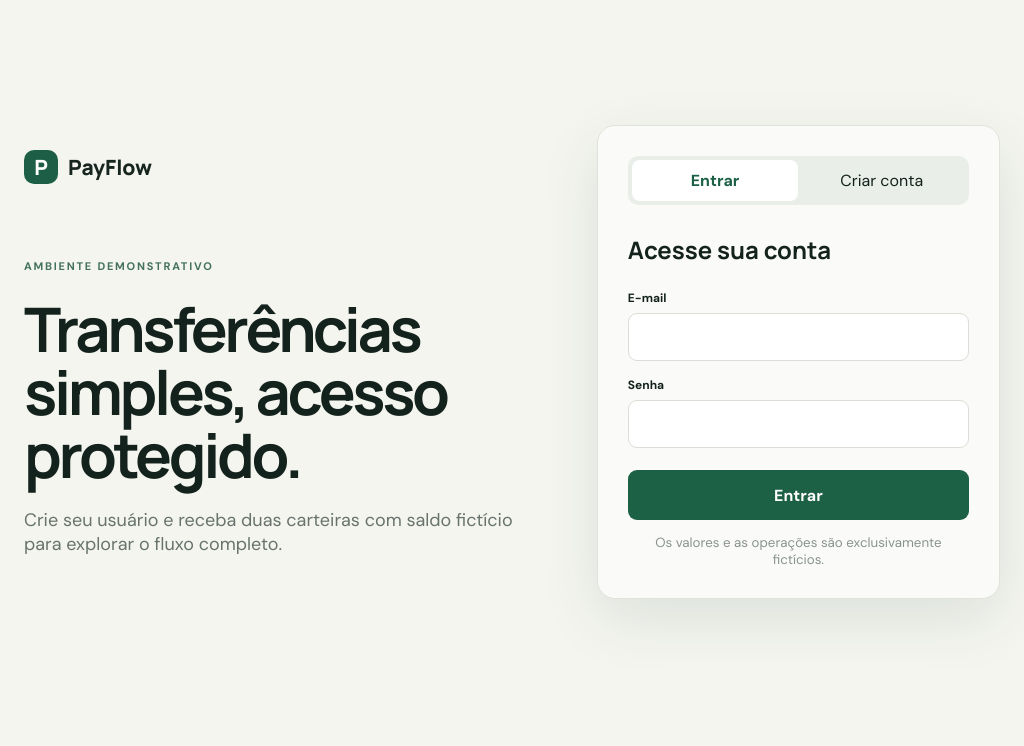
it: PayFlow dashboard › creates a transfer and refreshes the history
Type "user@example.com" into the field labelled "E-mail" at coordinates (798, 337), box [628,313,969,361]
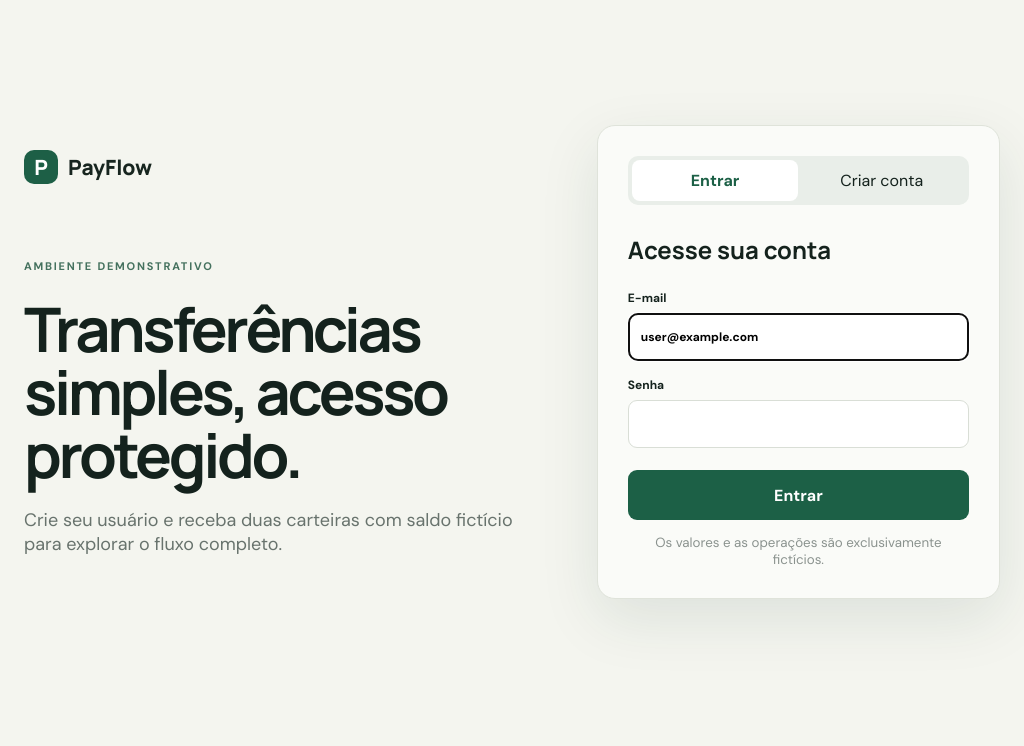
Type "safe-password" into the password field labelled "Senha" at coordinates (798, 424), box [628,400,969,448]
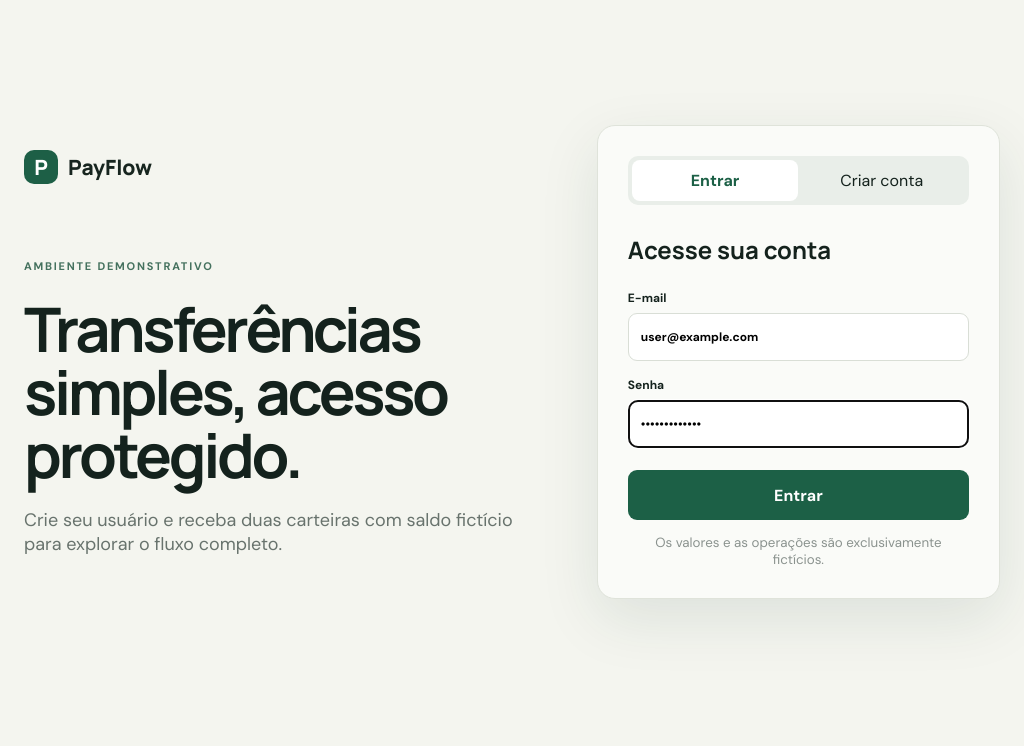
Click the button "Entrar" at coordinates (798, 495), box [628,470,969,520]
(page scrolled)
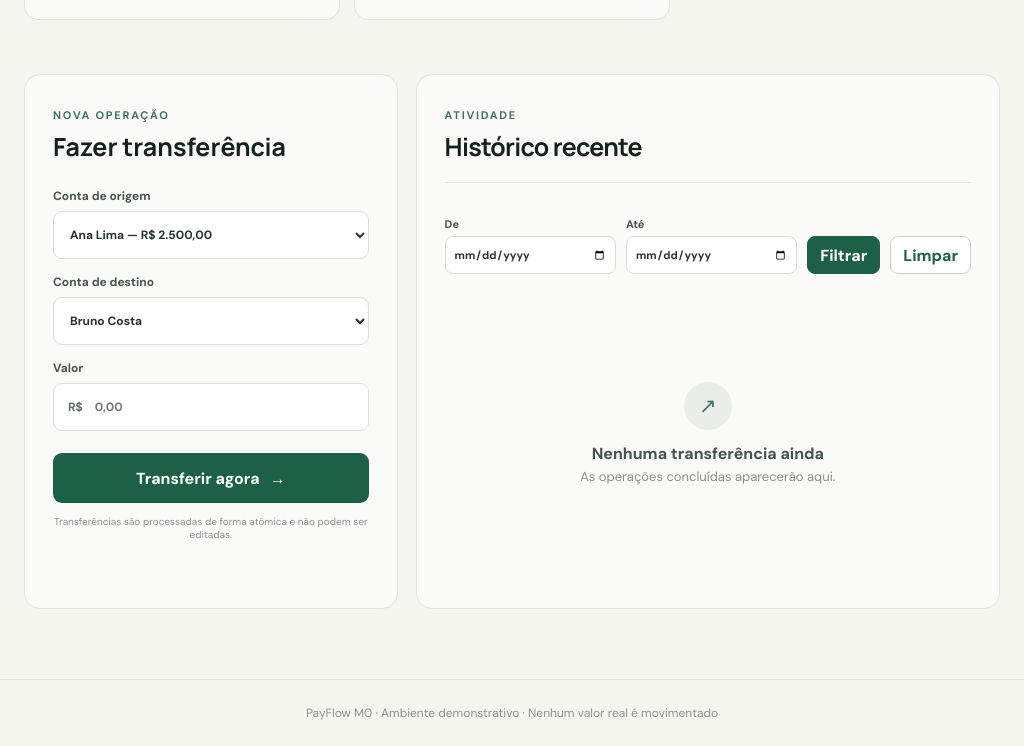
Type "50" into the number field labelled "Valor" at coordinates (225, 408), box [83,384,368,430]
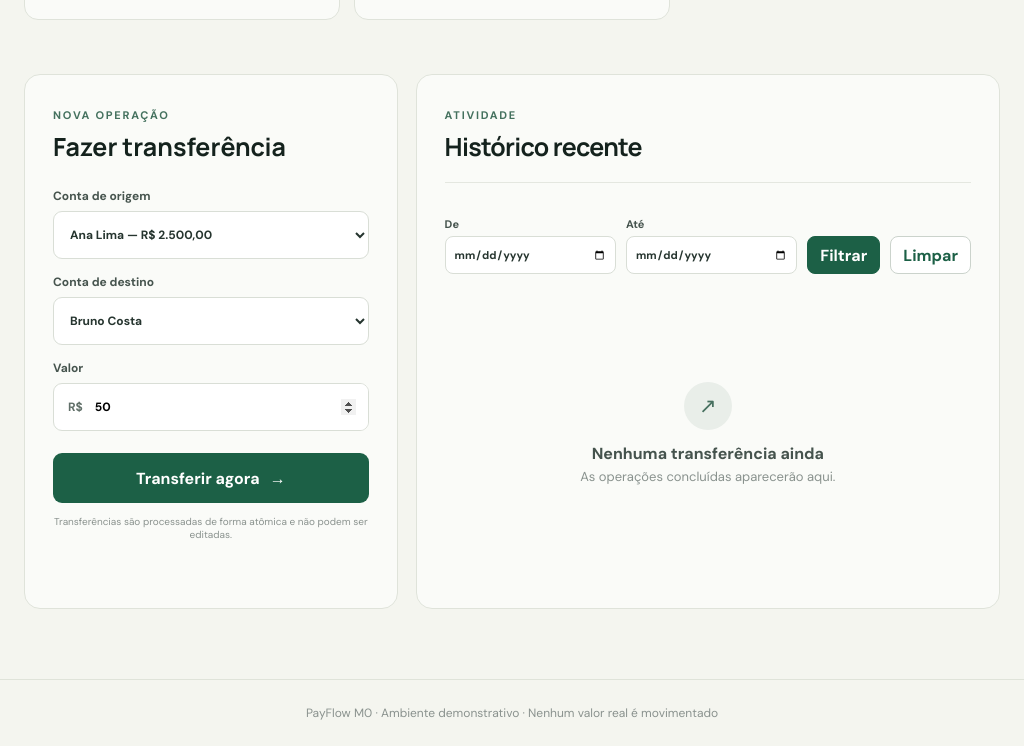
Click the button "Transferir agora →" at coordinates (211, 478), box [53,454,369,504]
(page scrolled)
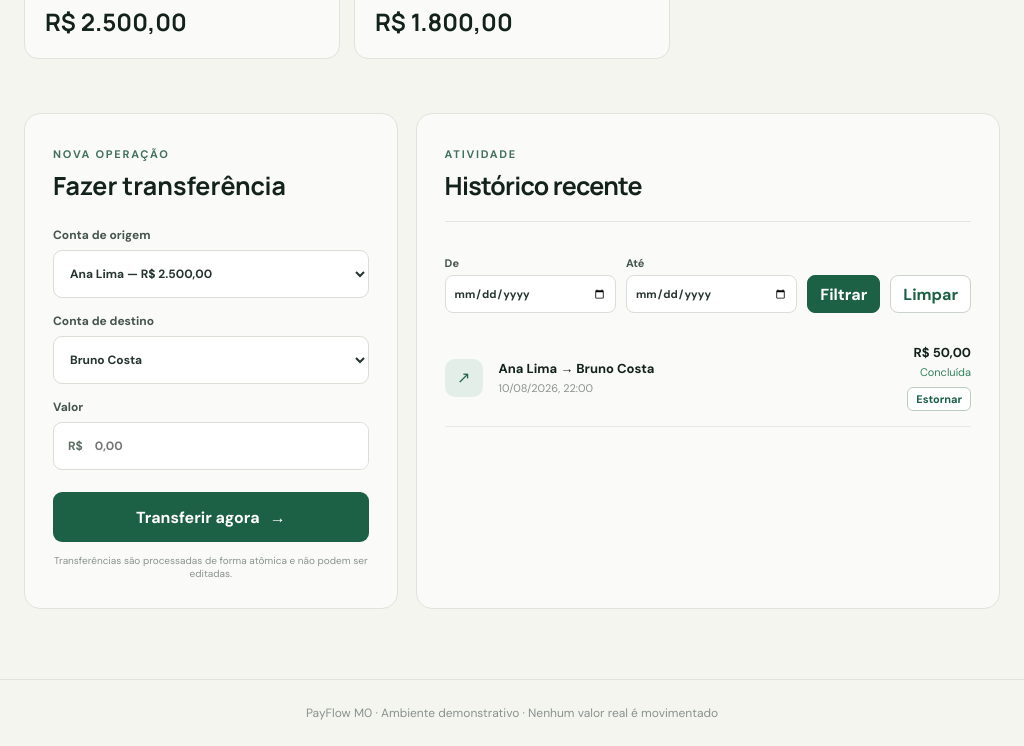
Expected: the text "Ana Lima → Bruno Costa" is shown, [499,360,654,378]
